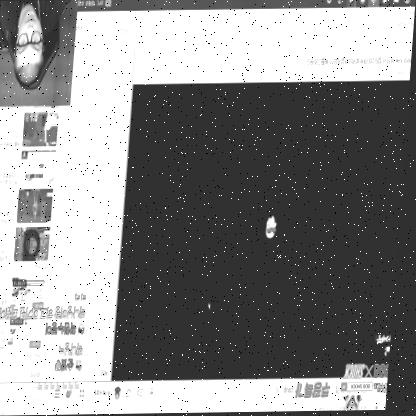streamer: (0, 0, 71, 83)
